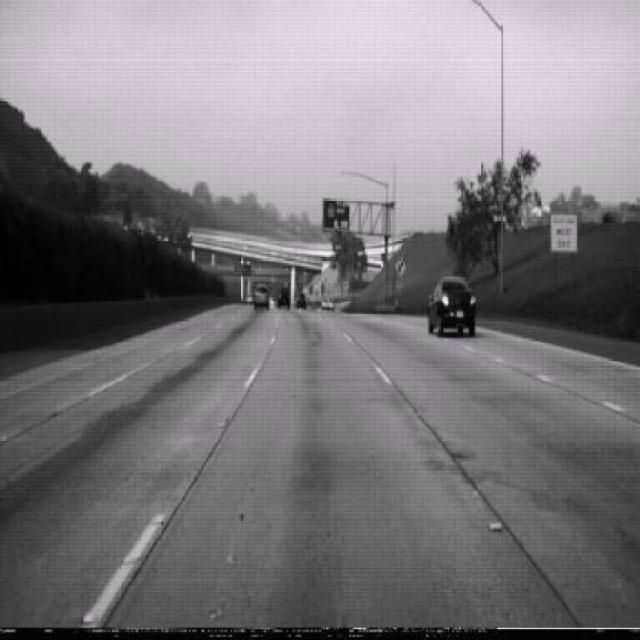curveRight: (394, 255, 406, 278)
